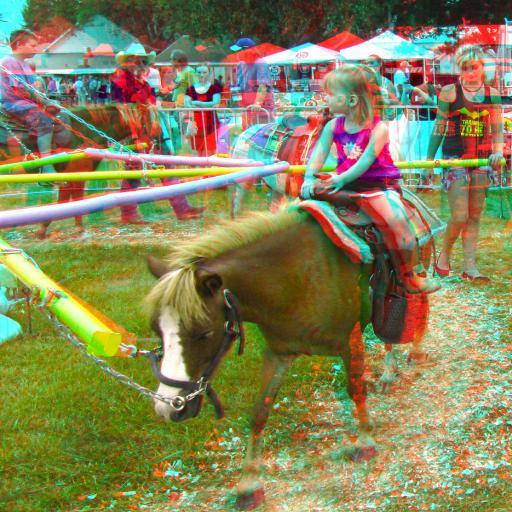horse: (148, 200, 424, 512), (0, 102, 151, 234), (223, 120, 292, 218)
